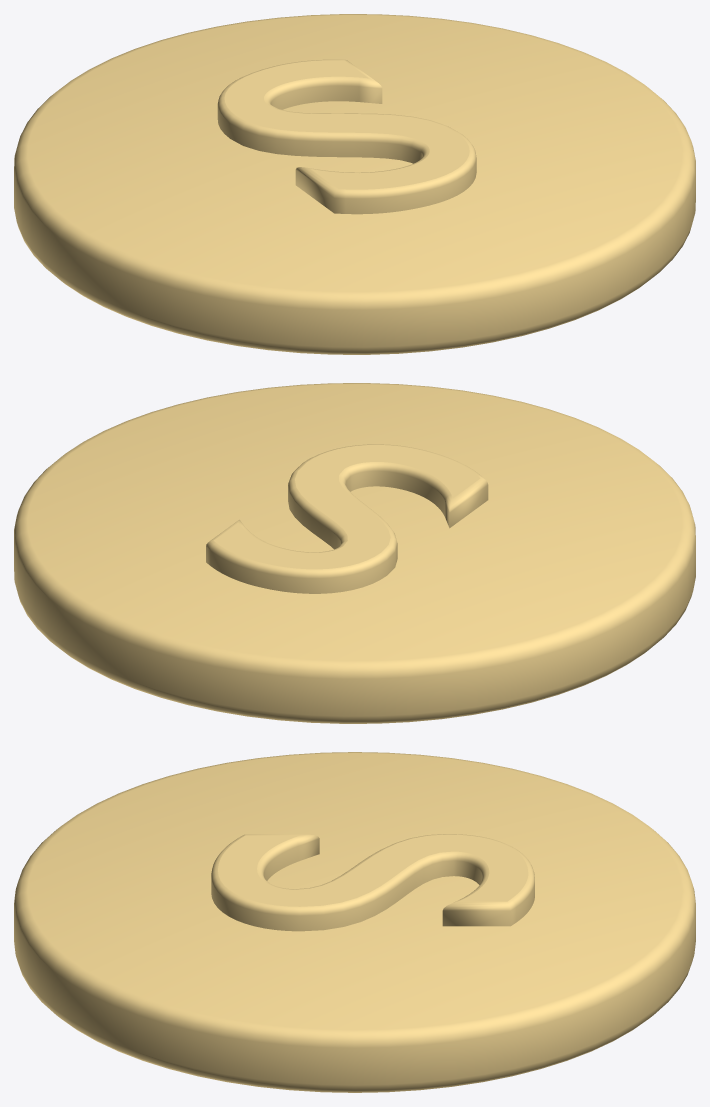
The model's file is coin.fbx.
3 views of the same model, one above another, from view 1: azimuth 30°, elevation 25°; view 2: azimuth 150°, elevation 25°; view 3: azimuth 270°, elevation 25° (orthographic).
Parts seen in each view (by area): view 1: CoinBase, CoinText_S; view 2: CoinBase, CoinText_S; view 3: CoinBase, CoinText_S.
Part boxes in pixels (x1,y1,x2,y2): CoinBase: (14, 14, 695, 354); CoinText_S: (217, 59, 476, 214); CoinBase: (14, 383, 695, 723); CoinText_S: (206, 444, 488, 593); CoinBase: (14, 752, 695, 1092); CoinText_S: (211, 834, 534, 931).
Bounding box in the file's own units: 200 × 27 × 200.
